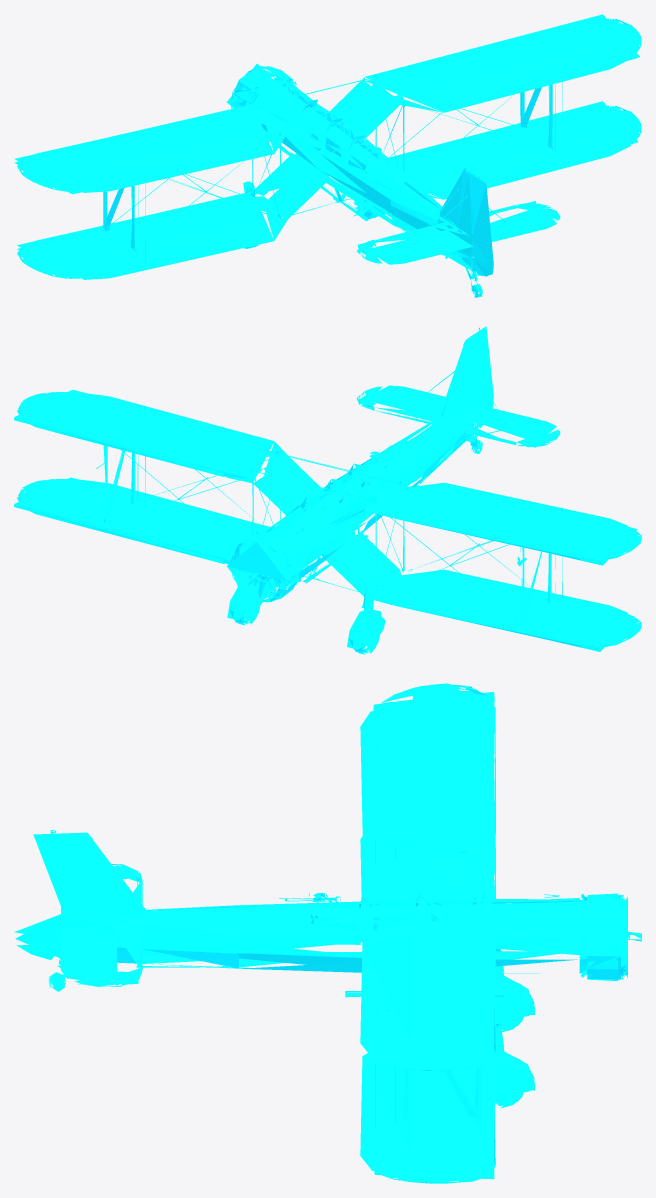
The model's file is PJAB009.glb.
The picture shows the model from 3 angles, top to bottom: view 1: azimuth 30°, elevation 25°; view 2: azimuth 150°, elevation 25°; view 3: azimuth 270°, elevation 25°; orthographic projection. The views are drawn at different scales.
Visible parts, largest first — view 1: misc; view 2: misc; view 3: misc.
Boxes of the visible parts, x1=… form: misc: x1=14, y1=14, x2=641, y2=297; misc: x1=14, y1=326, x2=641, y2=654; misc: x1=14, y1=683, x2=641, y2=1183.
Bounding box in the file's own units: 0.9867 × 0.2851 × 0.6798.
